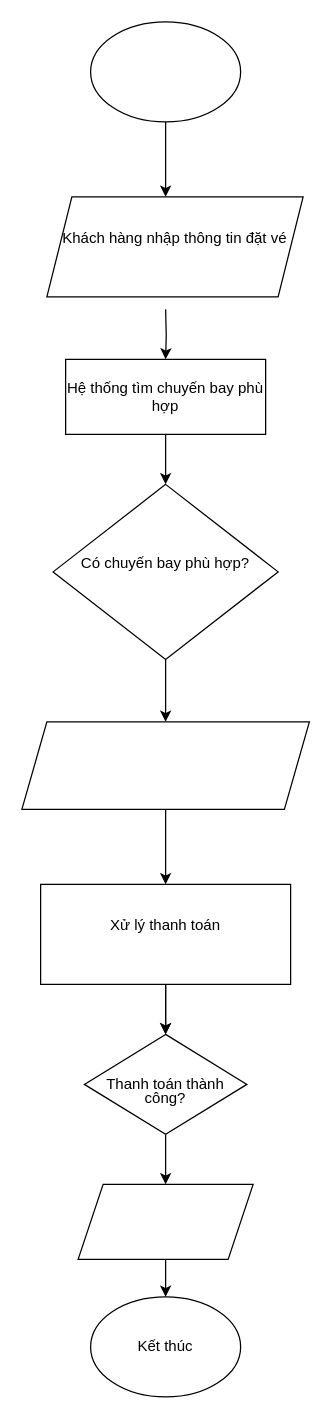
Image size: 331x1419. Some labels were removed from this diagram. The shapes that lost their labels are listed below. From the top down, each one's centre as x and y in pixels, then its label:
At (x=165, y=71): "Bắt đầu".
At (x=165, y=765): "Khách hàng chọn chuyến bay và thanh toán".
At (x=165, y=1221): "Xuất vé điện tử / xác nhận đặt chỗ".
